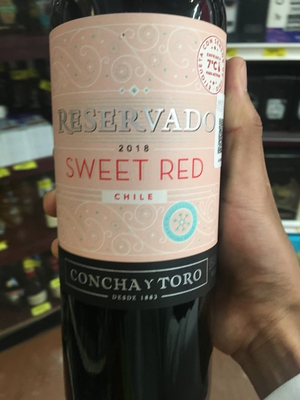reservado sweet red: (47, 8, 231, 386)
